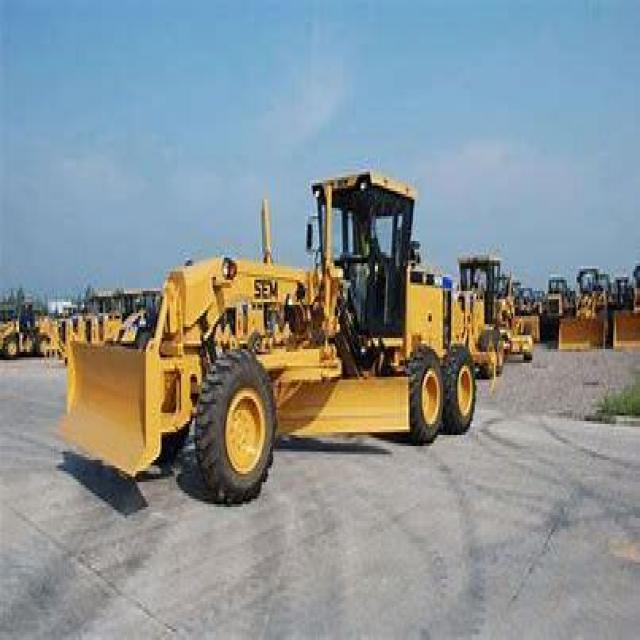Grader: (57, 158, 499, 510)
